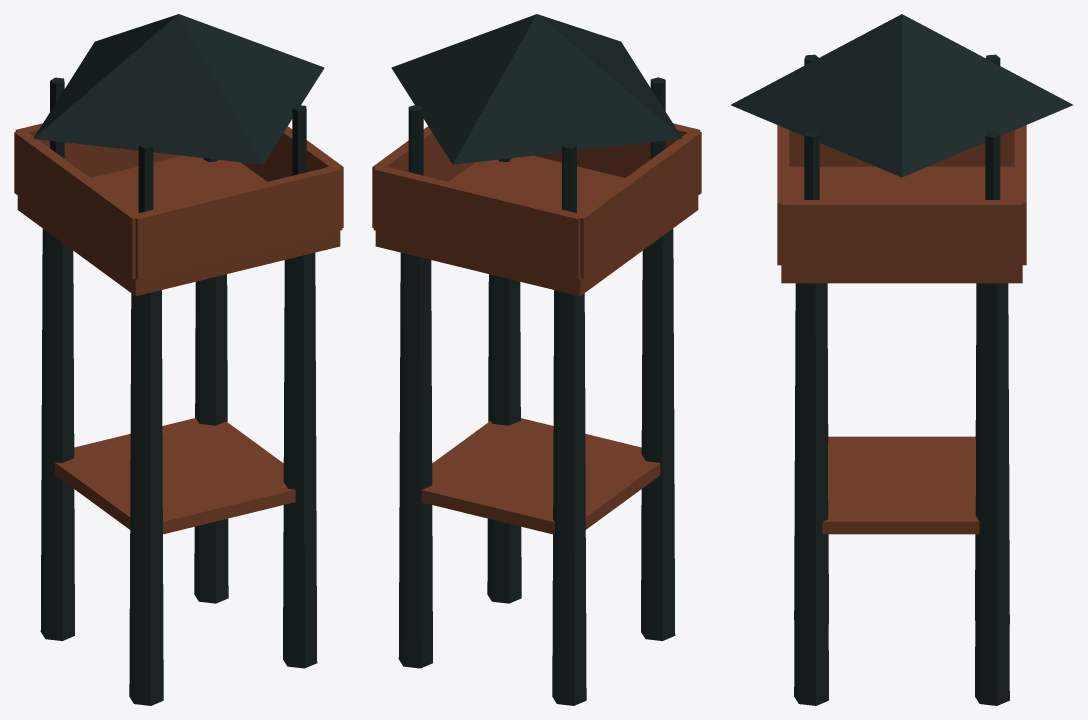
Rendered from bird_tower_broken.glb.
3 views of the same model, side by side, from view 1: azimuth 30°, elevation 25°; view 2: azimuth 150°, elevation 25°; view 3: azimuth 270°, elevation 25° (orthographic). The views are drawn at different scales.
Visible parts, largest first — view 1: bird_tower_piece10, bird_tower_piece2, bird_tower_piece5, bird_tower_piece7, bird_tower_piece3, bird_tower_piece1, bird_tower_piece6, bird_tower_piece12, bird_tower_piece4, bird_tower_piece0, bird_tower_piece8, bird_tower_piece9 (+1 smaller); view 2: bird_tower_piece5, bird_tower_piece10, bird_tower_piece12, bird_tower_piece2, bird_tower_piece7, bird_tower_piece3, bird_tower_piece1, bird_tower_piece0, bird_tower_piece9, bird_tower_piece8, bird_tower_piece4, bird_tower_piece11; view 3: bird_tower_piece5, bird_tower_piece10, bird_tower_piece1, bird_tower_piece3, bird_tower_piece2, bird_tower_piece11, bird_tower_piece12, bird_tower_piece6, bird_tower_piece7, bird_tower_piece4, bird_tower_piece9.
Part boxes in pixels (x1,y1,x2,y2): bird_tower_piece10: (40, 461, 317, 705); bird_tower_piece2: (28, 86, 343, 296); bird_tower_piece5: (14, 14, 343, 209); bird_tower_piece7: (103, 161, 267, 494); bird_tower_piece3: (41, 225, 323, 491); bird_tower_piece1: (181, 167, 250, 533); bird_tower_piece6: (30, 161, 270, 445); bird_tower_piece12: (14, 34, 173, 217); bird_tower_piece4: (43, 155, 206, 440); bird_tower_piece0: (28, 181, 138, 448); bird_tower_piece8: (41, 406, 129, 482); bird_tower_piece9: (124, 158, 212, 452); bird_tower_piece5: (391, 14, 626, 271); bird_tower_piece10: (398, 399, 675, 705); bird_tower_piece12: (380, 109, 595, 296); bird_tower_piece2: (491, 27, 691, 282); bird_tower_piece7: (577, 41, 701, 437); bird_tower_piece3: (439, 161, 657, 563); bird_tower_piece1: (399, 286, 486, 622); bird_tower_piece0: (553, 282, 593, 523); bird_tower_piece9: (373, 202, 529, 519); bird_tower_piece8: (389, 240, 585, 569); bird_tower_piece4: (372, 104, 585, 502); bird_tower_piece11: (372, 142, 489, 482); bird_tower_piece5: (777, 14, 1023, 283); bird_tower_piece10: (794, 404, 1009, 705); bird_tower_piece1: (932, 224, 1009, 655); bird_tower_piece3: (795, 287, 975, 534); bird_tower_piece2: (735, 54, 985, 346); bird_tower_piece11: (947, 200, 1026, 494); bird_tower_piece12: (984, 79, 1072, 199); bird_tower_piece6: (896, 176, 985, 529); bird_tower_piece7: (731, 102, 834, 403); bird_tower_piece4: (972, 129, 1026, 402); bird_tower_piece9: (949, 233, 1026, 499).
Bounding box in the file's own units: 1.71 × 3.55 × 1.71.
